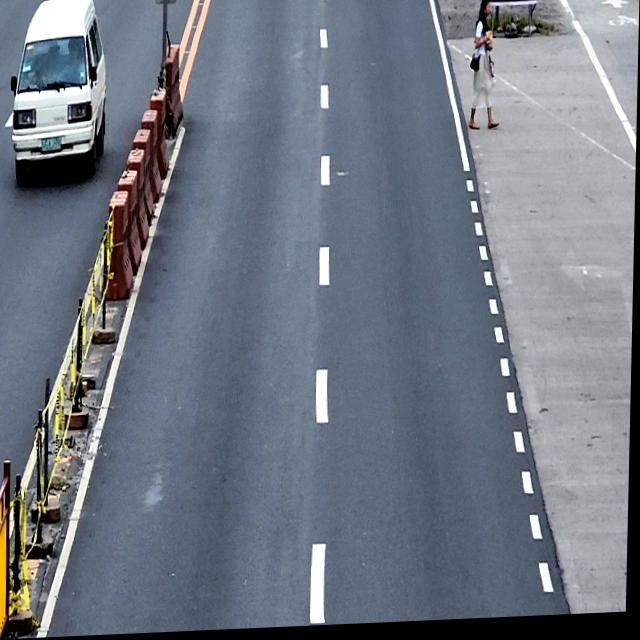Car: (7, 0, 108, 183)
License-Plate: (40, 135, 63, 154)
